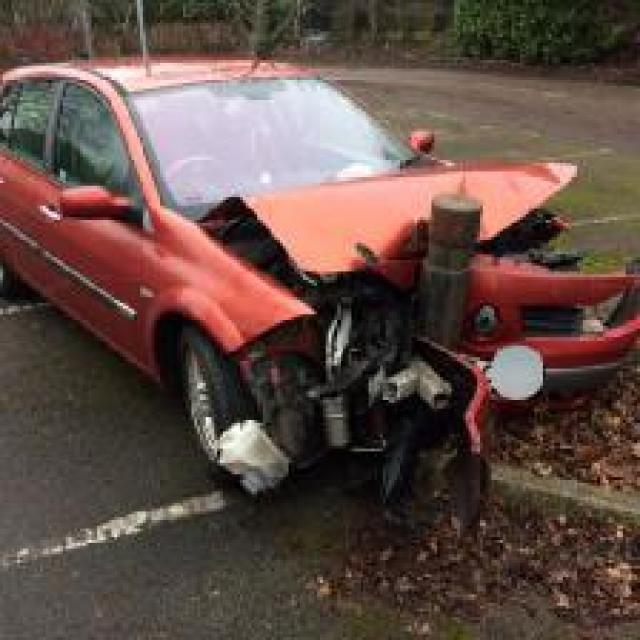damaged: (202, 163, 638, 540)
